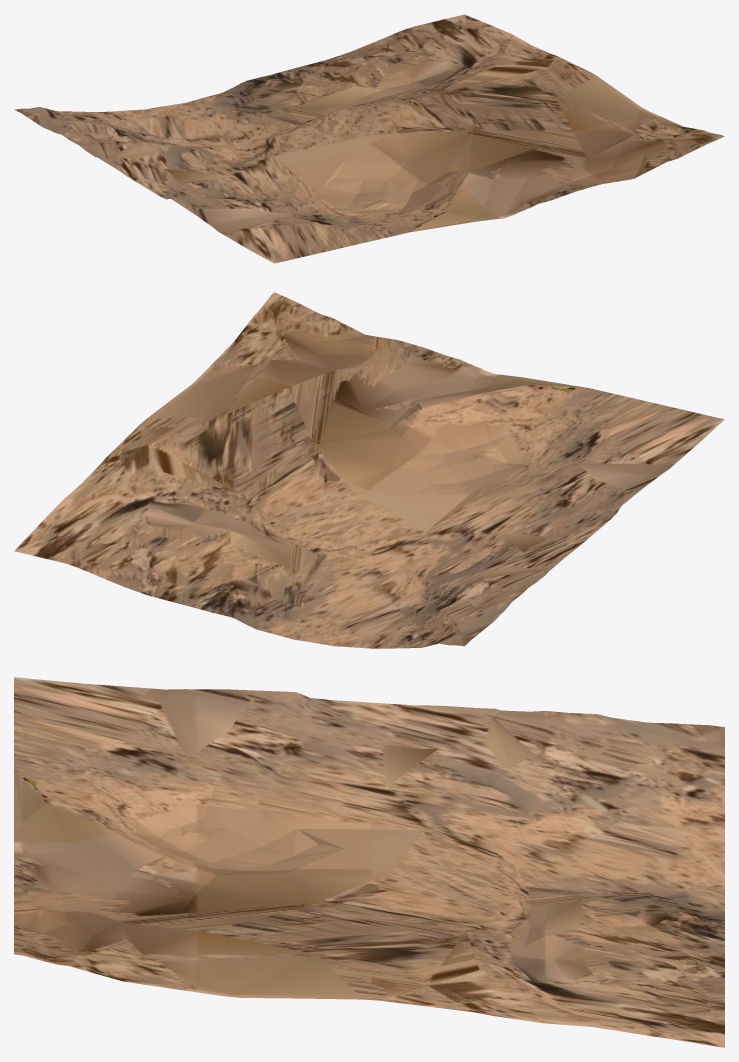
3 renders of one model, top to bottom at view 1: azimuth 30°, elevation 25°; view 2: azimuth 150°, elevation 25°; view 3: azimuth 270°, elevation 25°, orthographic. The views are drawn at different scales.
Bounding box in the file's own units: 4.18 × 0.786 × 4.18.
Materials: 2 (2 with a texture image).
